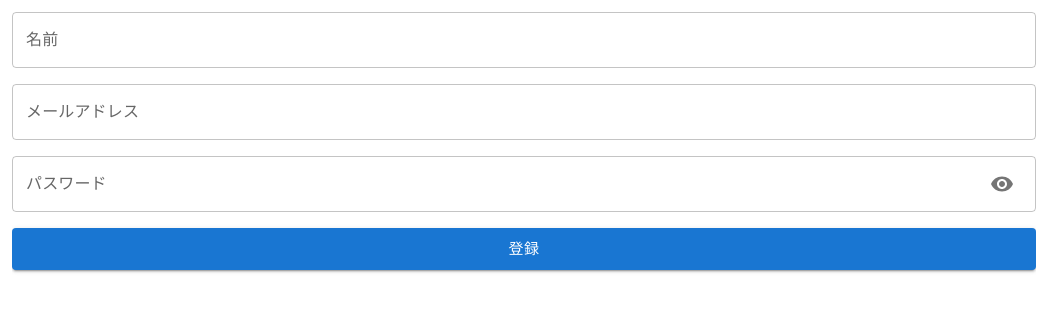
onBlurでバリデーションを実行する › 名前は必須入力 › 入力していない場合 › エラーメッセージが表示されること
The image size is (1048, 313).
Click the field labelled "名前": (524, 40) left=12, top=12, right=1036, bottom=68
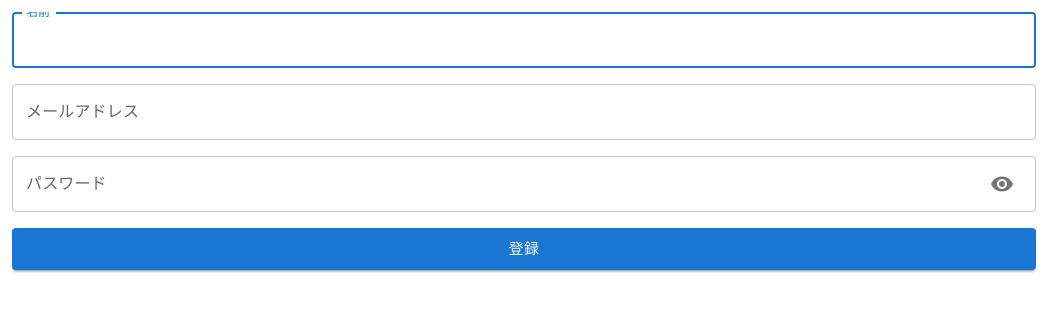
Press Tab
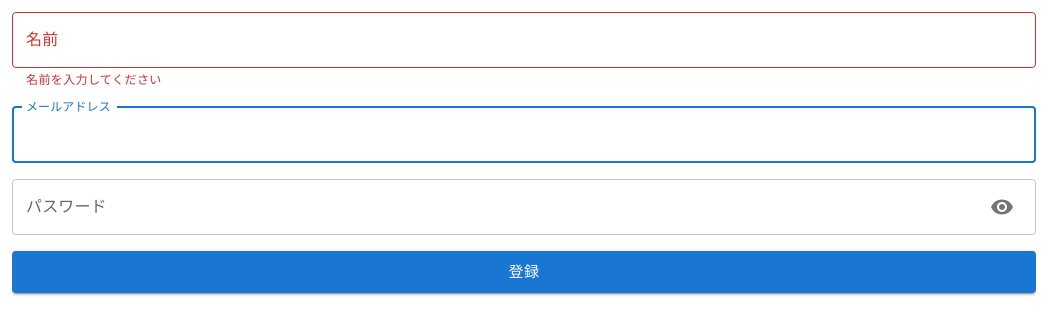
Check: the text "名前を入力してください" is shown, box left=26, top=73, right=162, bottom=87
